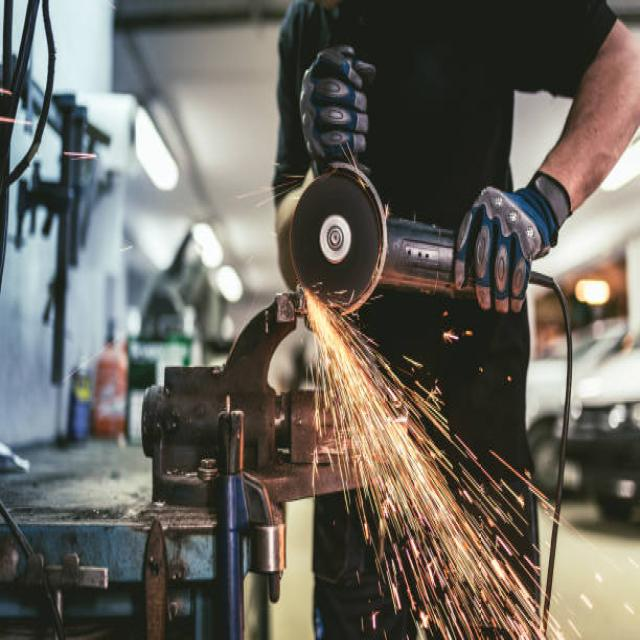gloves: (457, 171, 573, 306), (300, 44, 377, 172)
